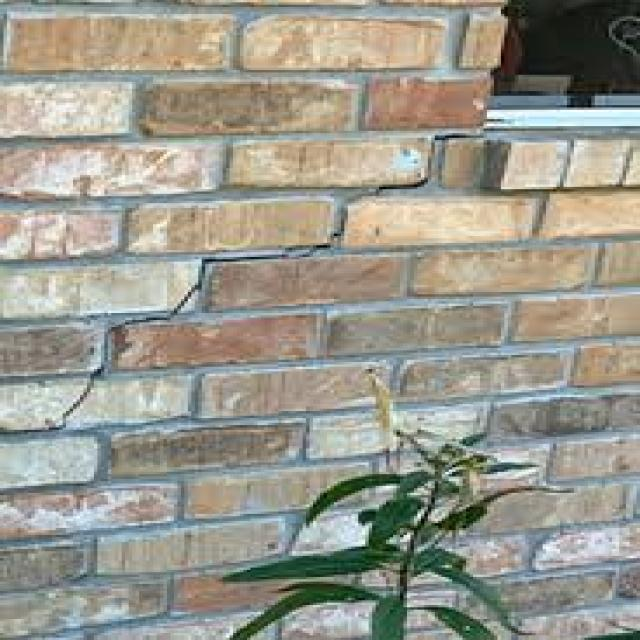Crack: (0, 128, 483, 434)
